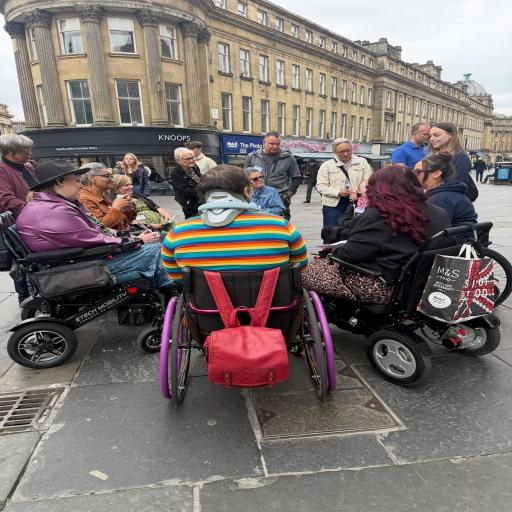door: (186, 266, 297, 394)
hole: (0, 115, 502, 304)
wheelchair: (316, 223, 512, 398), (0, 210, 176, 370), (160, 268, 346, 414)
